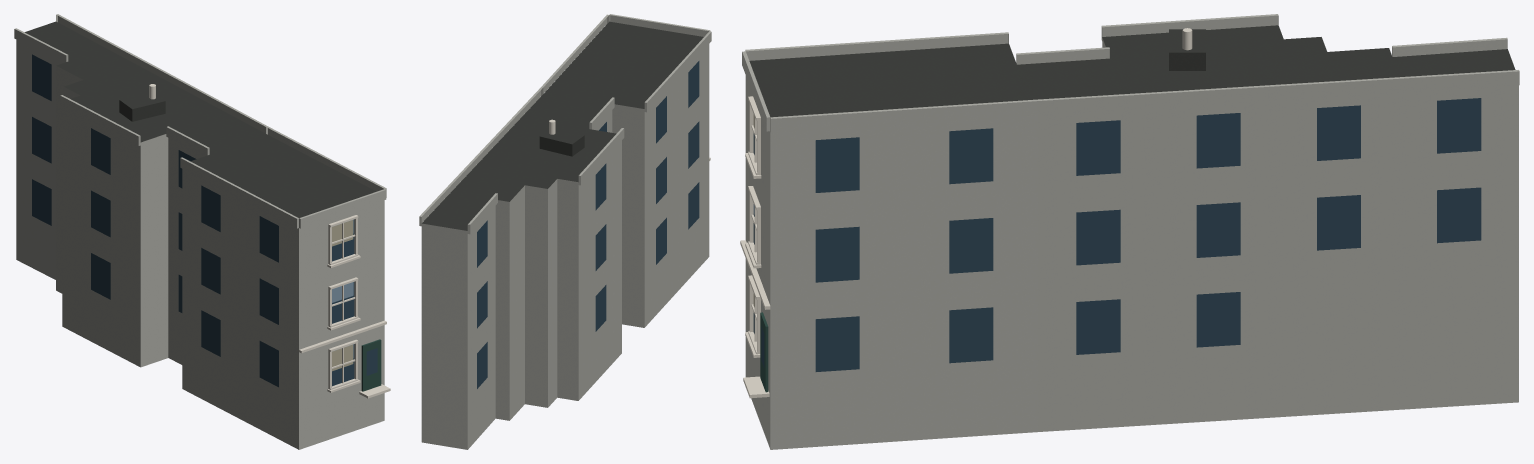
3 renders of one model, left to right at view 1: azimuth 30°, elevation 25°; view 2: azimuth 150°, elevation 25°; view 3: azimuth 270°, elevation 25°, orthographic. The views are drawn at different scales.
Parts seen in each view (by area): view 1: Footprint 0 / surface 2, Footprint 0 / surface 1, Inset glazing, Facade bay volumes, Cornices and window frames, Storefronts and doors, Interior blind variation, Inferred rooftop service enclosure / surface 5, Inferred rooftop service enclosure / surface 3; view 2: Footprint 0 / surface 2, Footprint 0 / surface 1, Inset glazing, Facade bay volumes, Inferred rooftop service enclosure / surface 6, Inferred rooftop service enclosure / surface 3; view 3: Footprint 0 / surface 2, Inset glazing, Footprint 0 / surface 1, Facade bay volumes, Cornices and window frames.
Part boxes in pixels (box(x1,y1,x2,y2)): Footprint 0 / surface 2: box(16, 39, 384, 449); Footprint 0 / surface 1: box(25, 21, 376, 217); Inset glazing: box(32, 54, 377, 387); Facade bay volumes: box(14, 14, 386, 228); Cornices and window frames: box(299, 215, 390, 398); Storefronts and doors: box(361, 339, 381, 391); Interior blind variation: box(332, 220, 353, 371); Inferred rooftop service enclosure / surface 5: box(132, 101, 165, 121); Inferred rooftop service enclosure / surface 3: box(119, 92, 164, 109); Footprint 0 / surface 2: box(421, 44, 709, 449); Footprint 0 / surface 1: box(422, 21, 703, 230); Inset glazing: box(477, 61, 699, 388); Facade bay volumes: box(419, 14, 711, 234); Inferred rooftop service enclosure / surface 6: box(539, 136, 572, 156); Inferred rooftop service enclosure / surface 3: box(540, 128, 584, 144); Footprint 0 / surface 2: box(745, 38, 1518, 449); Inset glazing: box(753, 98, 1481, 371); Footprint 0 / surface 1: box(749, 25, 1515, 117); Facade bay volumes: box(742, 14, 1519, 132); Cornices and window frames: box(740, 96, 770, 398).
Size of the model in its own units: 8.07 by 12.88 by 25.33.
